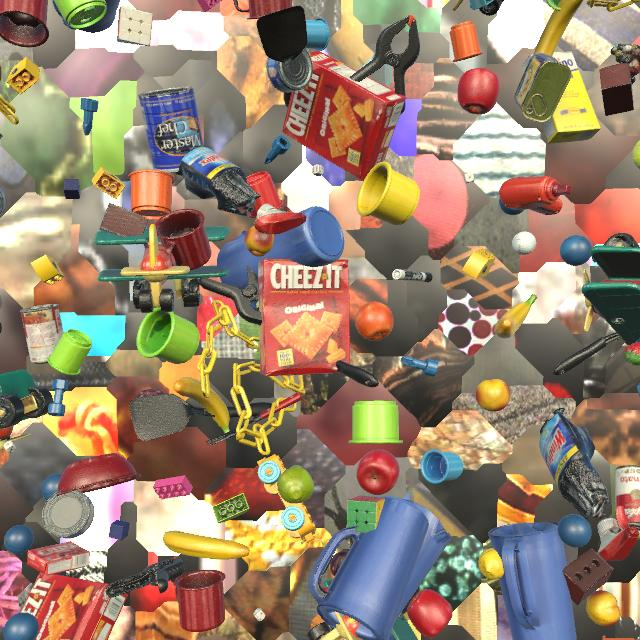ycb_002_master_chef_can: (138, 87, 203, 173)
ycb_003_cracker_box: (282, 51, 406, 181), (258, 258, 350, 376), (19, 572, 128, 640)
ycb_004_sugar_box: (522, 51, 601, 144)
ycb_005_tomato_soup_can: (20, 304, 64, 364), (615, 465, 640, 534), (0, 133, 3, 139)
ycb_007_tuna_fish_can: (42, 490, 94, 538), (266, 48, 313, 93), (0, 186, 6, 215)
ycb_009_gelatin_box: (27, 541, 90, 576)
ycb_010_potted_meat_can: (514, 53, 572, 123)
ycb_011_banana: (173, 377, 232, 439), (534, 0, 583, 56), (163, 531, 250, 559), (494, 294, 537, 338)
ycb_012_strawberry: (623, 342, 640, 366)
ycb_013_apple: (407, 589, 453, 638), (356, 449, 400, 495), (457, 68, 500, 114)
ycb_014_lemon: (478, 548, 504, 580)
ycb_015_peach: (586, 590, 621, 627), (475, 379, 511, 412), (244, 226, 274, 257)
ycb_016_pear: (277, 465, 314, 504)
ycb_017_orange: (355, 302, 394, 341)
ycb_018_plum: (330, 551, 348, 576), (136, 389, 165, 398)
